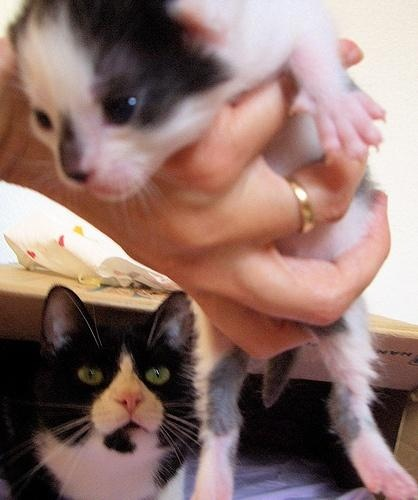cat: (6, 3, 418, 500), (1, 284, 197, 500)
